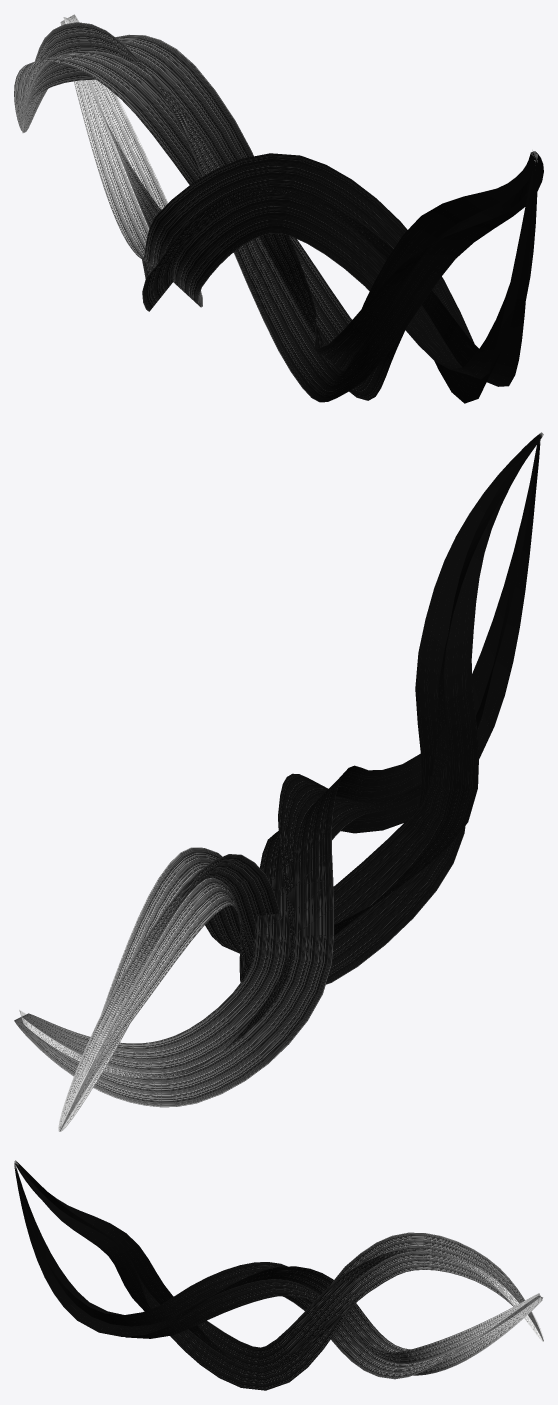
The model's file is FX_lfl_wuqi_366_liuguang03.FBX.
3 renders of one model, top to bottom at view 1: azimuth 30°, elevation 25°; view 2: azimuth 150°, elevation 25°; view 3: azimuth 270°, elevation 25°, orthographic. The views are drawn at different scales.
Visible parts, largest first — view 1: Plane022; view 2: Plane022; view 3: Plane022.
Part boxes in pixels (x1=…): Plane022: x1=14, y1=14, x2=543, y2=403; Plane022: x1=14, y1=432, x2=543, y2=1131; Plane022: x1=14, y1=1160, x2=543, y2=1390.
Size of the model in its own units: 7.06 by 18.58 by 40.67.
Materials: 1 (1 with a texture image).
